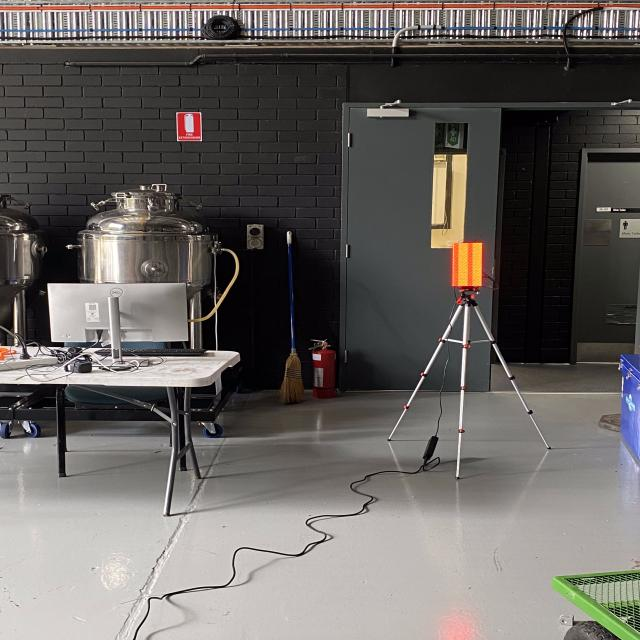matrix: (451, 238, 488, 291)
